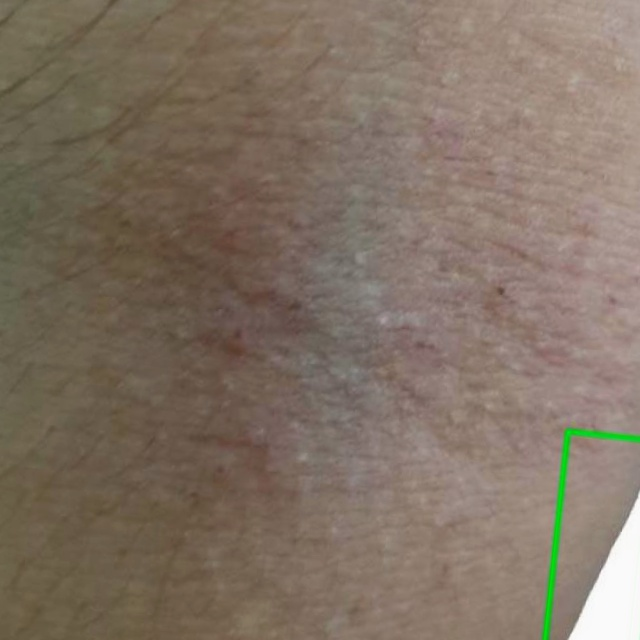Contact Dermatitis: (545, 431, 639, 639)
